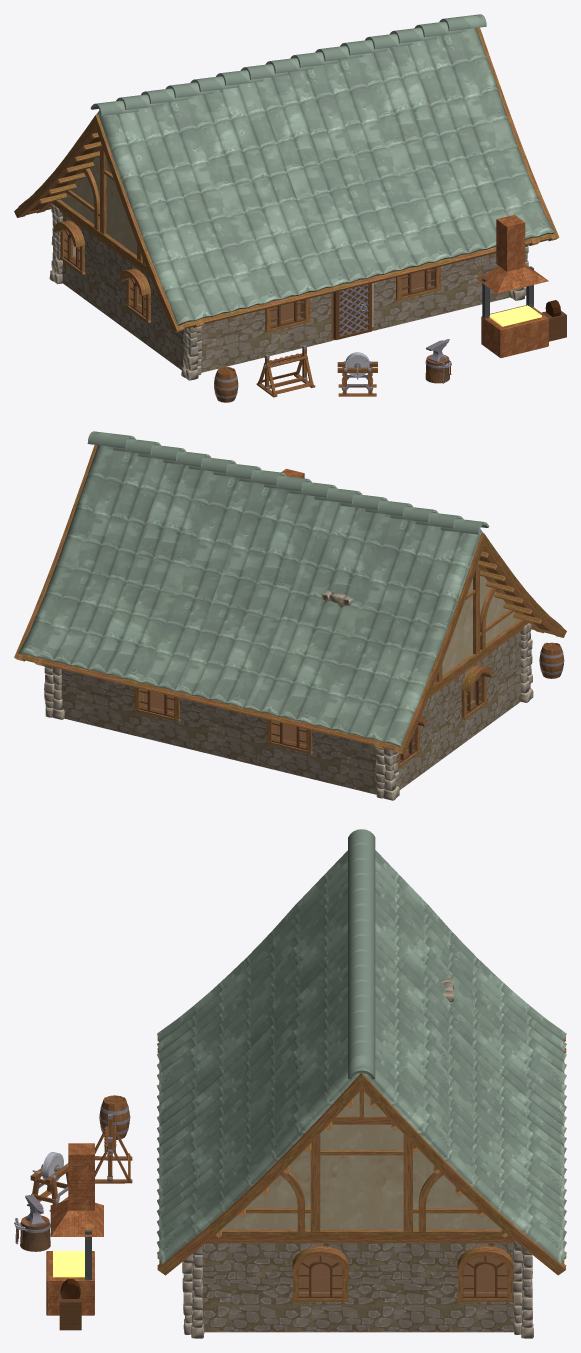
The model's file is blcksmth.glb.
The picture shows the model from 3 angles, top to bottom: view 1: azimuth 30°, elevation 25°; view 2: azimuth 150°, elevation 25°; view 3: azimuth 270°, elevation 25°; orthographic projection. The views are drawn at different scales.
Visible parts, largest first — view 1: Wall_UnevenBrick_Straight.001; view 2: Wall_UnevenBrick_Straight.001; view 3: Wall_UnevenBrick_Straight.001.
Boxes of the visible parts, bbox=[...] form: Wall_UnevenBrick_Straight.001: bbox=[14, 14, 566, 402]; Wall_UnevenBrick_Straight.001: bbox=[14, 431, 566, 800]; Wall_UnevenBrick_Straight.001: bbox=[14, 829, 566, 1338].
Bounding box in the file's own units: 12.7 × 7.2 × 12.53.
Materials: 36 (34 with a texture image).
